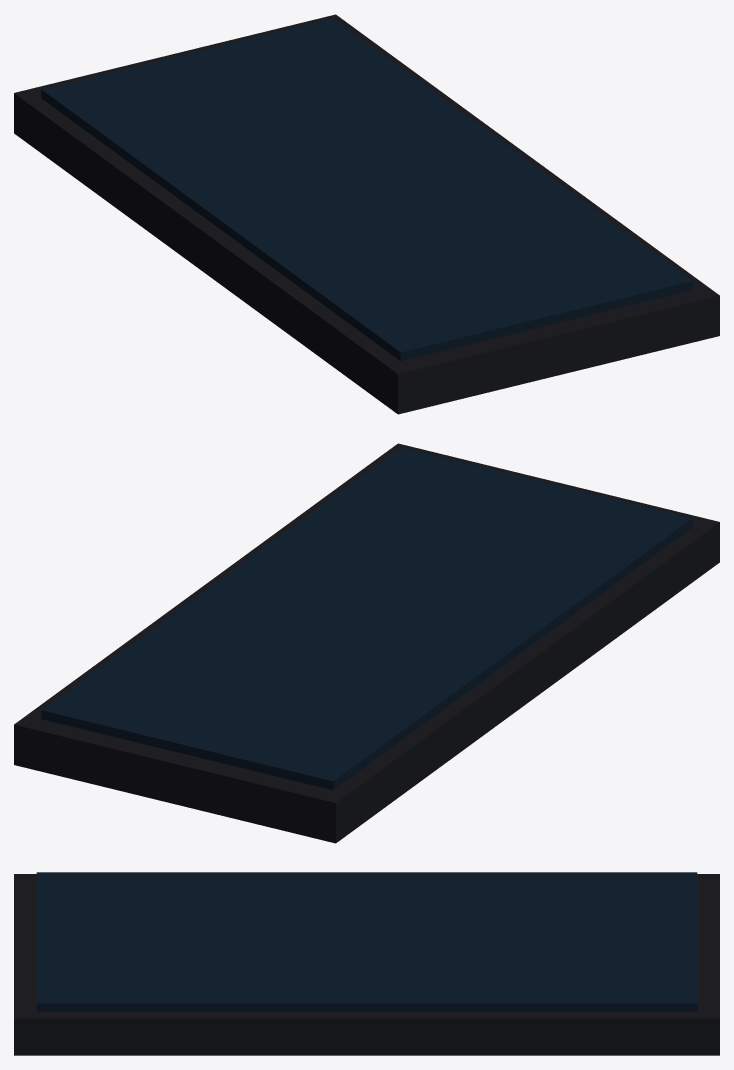
File: celular.glb
3 views of the same model, one above another, from view 1: azimuth 30°, elevation 25°; view 2: azimuth 150°, elevation 25°; view 3: azimuth 270°, elevation 25° (orthographic). The views are drawn at different scales.
Parts seen in each view (by area): view 1: celular; view 2: celular; view 3: celular.
Boxes of the visible parts, box(x1,y1,x2,y2) form: celular: box(14, 14, 719, 414); celular: box(14, 443, 719, 843); celular: box(14, 872, 719, 1055).
Size of the model in its own units: 0.075 by 0.011 by 0.155.
